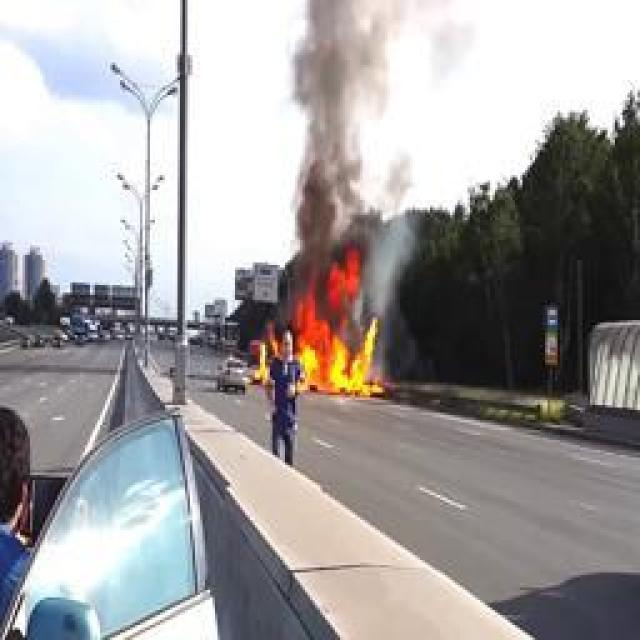Fire: (257, 248, 385, 396)
